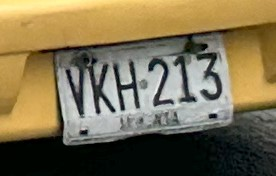number plate: (55, 33, 232, 144)
